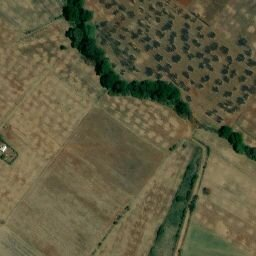tree: (174, 101, 192, 118), (112, 80, 128, 94), (218, 125, 232, 138), (219, 45, 229, 54), (236, 96, 246, 105), (145, 66, 153, 77), (172, 54, 181, 63), (155, 30, 164, 39), (163, 63, 172, 72), (209, 42, 218, 51), (200, 74, 210, 82), (237, 38, 247, 46), (154, 54, 163, 62), (223, 90, 232, 98), (152, 40, 161, 48), (182, 43, 190, 52), (203, 187, 211, 195), (182, 71, 190, 79), (145, 44, 153, 52), (236, 53, 244, 61), (210, 54, 219, 61), (229, 69, 236, 78), (196, 52, 204, 59), (187, 53, 195, 60), (222, 75, 229, 83), (131, 31, 138, 39), (128, 11, 135, 18), (239, 75, 246, 82), (203, 46, 210, 53), (208, 32, 216, 38), (214, 78, 222, 84), (220, 68, 228, 74), (226, 56, 232, 64), (155, 73, 162, 79), (188, 65, 194, 72), (211, 86, 218, 92), (112, 9, 119, 15), (119, 34, 126, 40), (157, 64, 163, 71), (196, 25, 203, 31), (137, 28, 143, 35), (186, 95, 192, 101), (155, 17, 161, 23), (197, 84, 204, 89), (59, 45, 66, 50), (198, 62, 203, 68), (184, 23, 190, 28), (194, 43, 201, 47), (191, 39, 197, 43)
